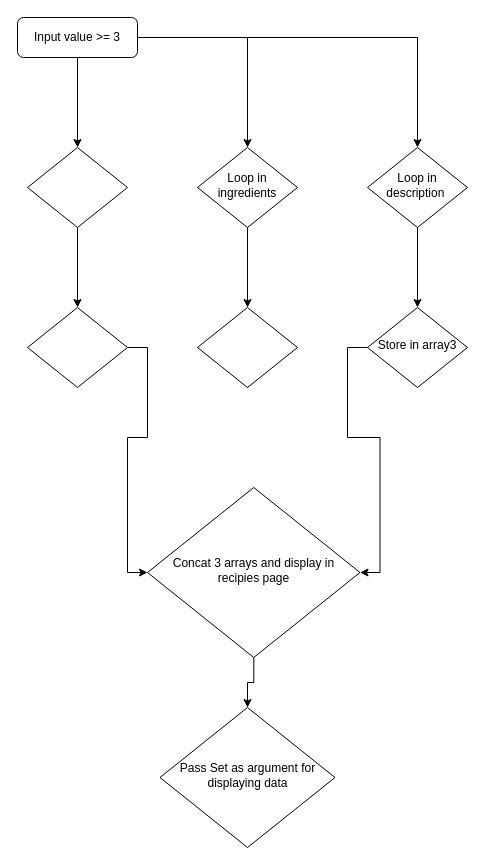
This 485x865 diagram has some shape labels left out. The centre of each missing label's shape, as x and y in pixels:
Loop in name: point (77, 187)
Store in array1: point (77, 347)
Store in array2: point (247, 347)
